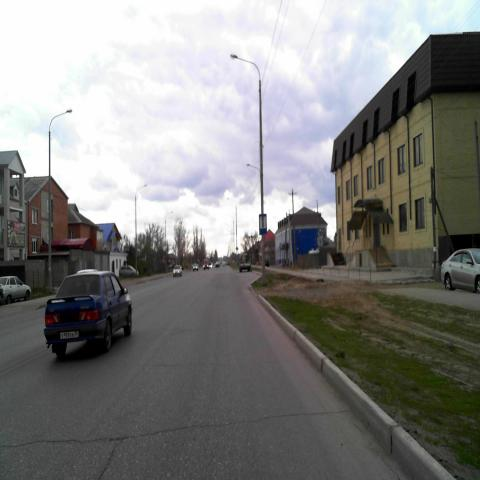7_4: (260, 214, 267, 234)
